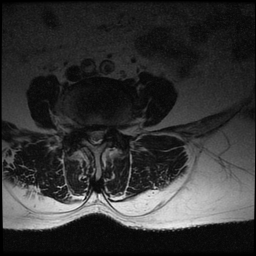CCS_stenosis: (92, 124, 99, 150)
LFS_severe_stenosis: (107, 117, 115, 138)
LLS_severe_stenosis: (100, 123, 107, 146)
RFS_severe_stenosis: (78, 117, 86, 136)
RLS_stenosis: (85, 123, 92, 145)
